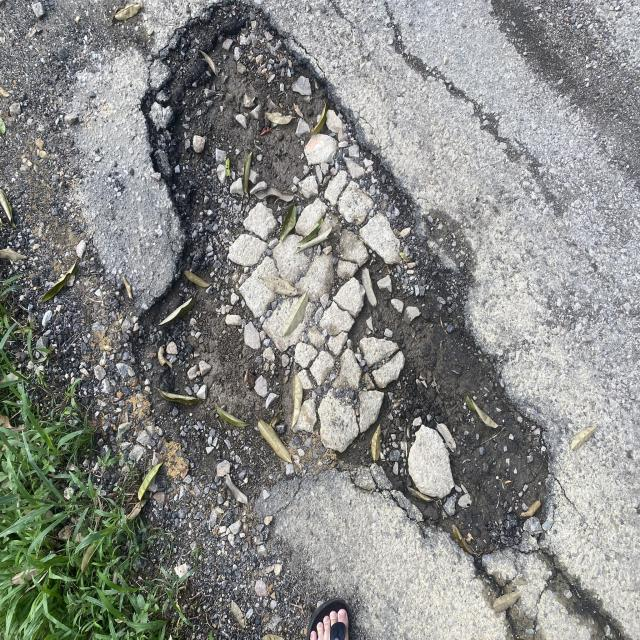Pothole: (98, 0, 571, 548)
